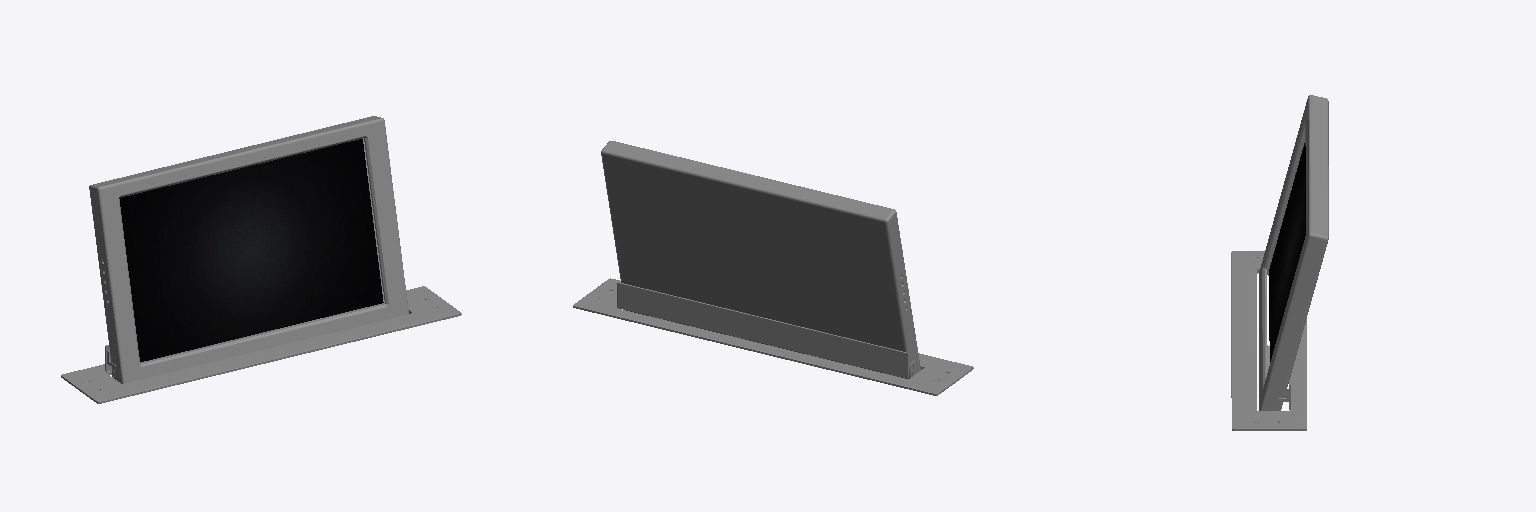
The picture shows the model from 3 angles: view 1: azimuth 30°, elevation 25°; view 2: azimuth 150°, elevation 25°; view 3: azimuth 270°, elevation 25°; orthographic projection.
Visible parts, largest first — view 1: Obj3d66_449721_2_877, Obj3d66_449721_3_818, Obj3d66_449721_6_714; view 2: Obj3d66_449721_3_818, Obj3d66_449721_1_118, Obj3d66_449721_6_714; view 3: Obj3d66_449721_3_818, Obj3d66_449721_6_714, Obj3d66_449721_2_877.
Boxes of the visible parts, box(x1,y1,x2,y2) form: Obj3d66_449721_2_877: box(119, 139, 383, 361); Obj3d66_449721_3_818: box(89, 116, 408, 383); Obj3d66_449721_6_714: box(61, 286, 461, 403); Obj3d66_449721_3_818: box(601, 141, 920, 378); Obj3d66_449721_1_118: box(617, 282, 908, 378); Obj3d66_449721_6_714: box(573, 278, 973, 395); Obj3d66_449721_3_818: box(1259, 95, 1328, 410); Obj3d66_449721_6_714: box(1231, 251, 1306, 430); Obj3d66_449721_2_877: box(1269, 143, 1305, 361).
Size of the model in its own units: 22.81 by 11.01 by 5.28.
2 materials, 1 textured.